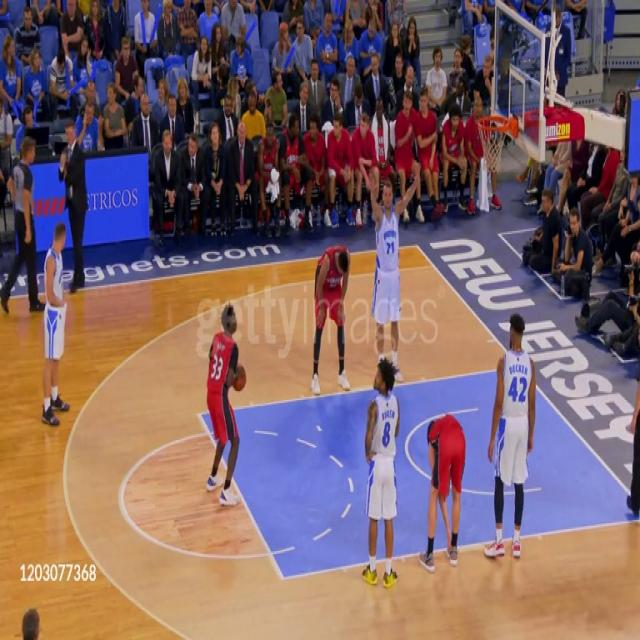ball: (231, 363, 247, 393)
